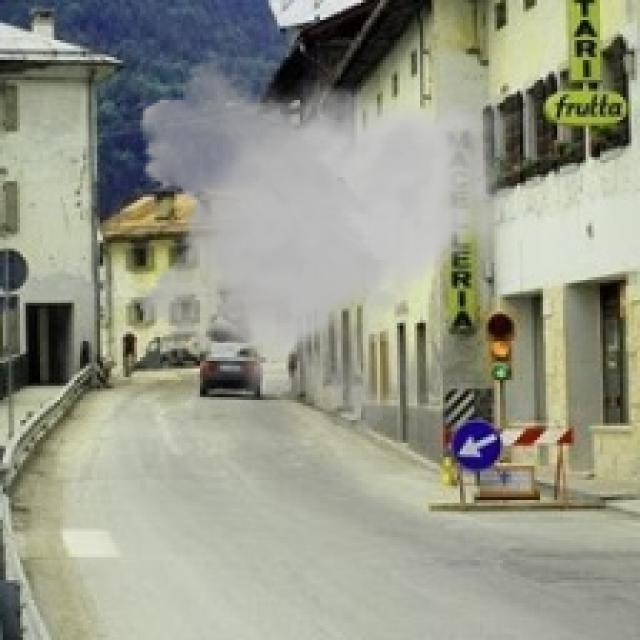Smoke: (128, 48, 528, 443)
